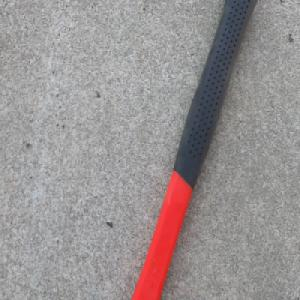Hammer: (126, 0, 256, 300)
